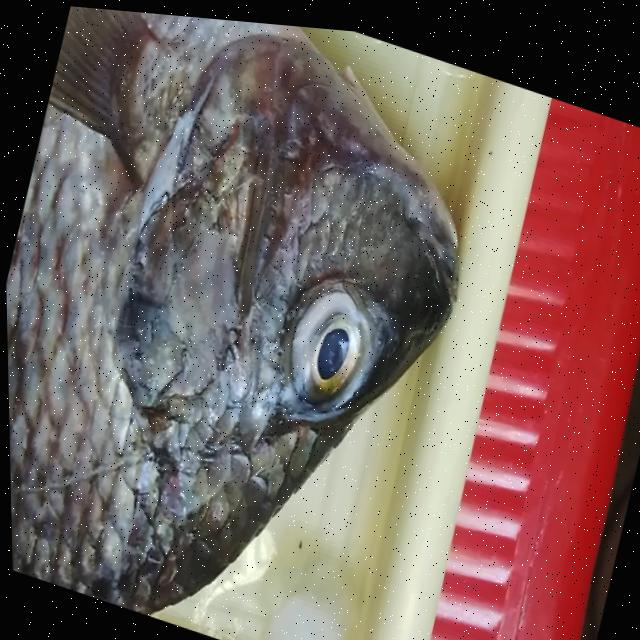Fresh: (0, 0, 293, 623), (258, 231, 399, 474)
